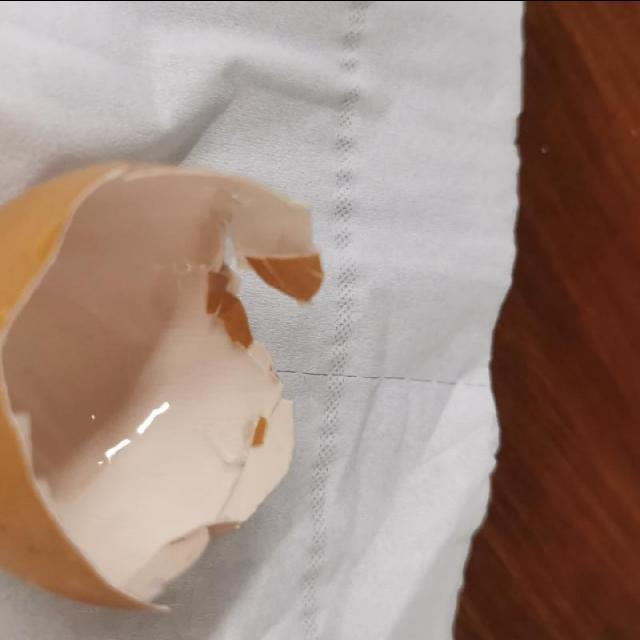egg shell: (1, 146, 323, 610)
